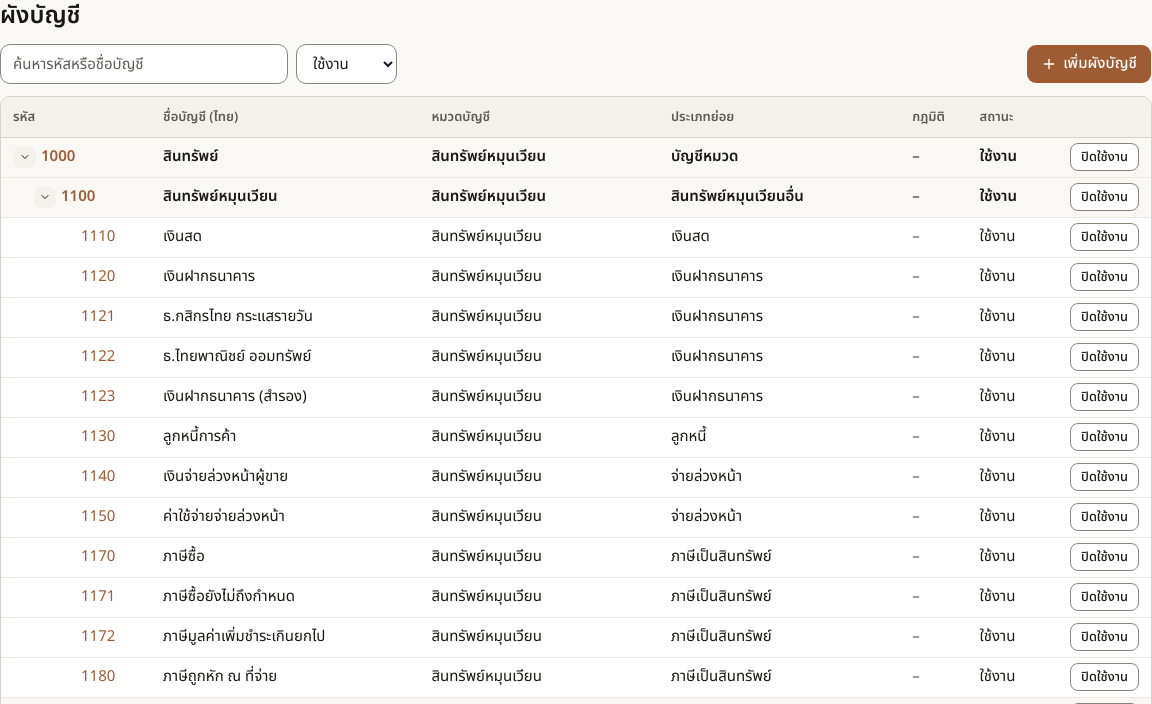
Test: TreeRecordList › a used account opens with its code, class, sub-class and posting flag locked; renaming still saves
This screenshot has width=1152, height=704.
Click the button "1130" at (98, 437), box top-left (81, 425), bottom-right (115, 449)
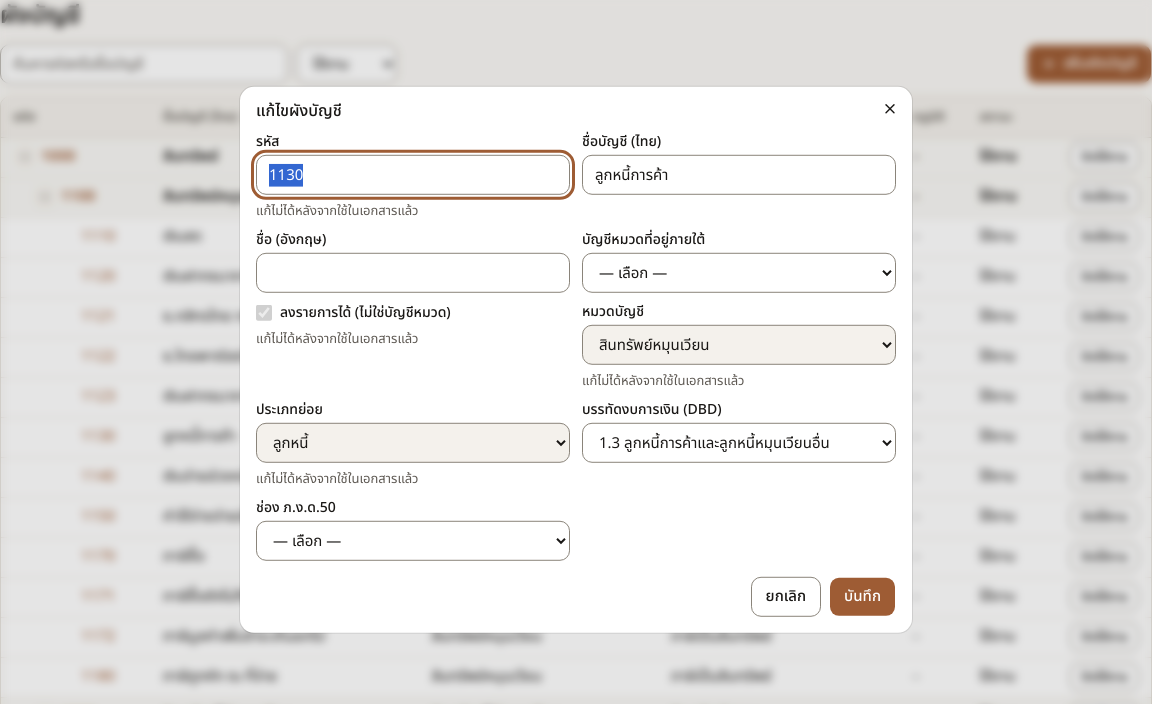
Expected: the dropdown labelled "หมวดบัญชี" is disabled, top-left (582, 325), bottom-right (896, 365)
Expected: the dropdown labelled "ประเภทย่อย" is disabled, top-left (256, 423), bottom-right (570, 463)
Expected: the checkbox labelled "ลงรายการได้ (ไม่ใช่บัญชีหมวด)" is disabled, top-left (256, 305), bottom-right (272, 321)
Replace the text in the field labelled "ชื่อบัญชี (ไทย)" with "ลูกหนี้ในประเทศ" at (739, 175), box top-left (582, 155), bottom-right (896, 195)
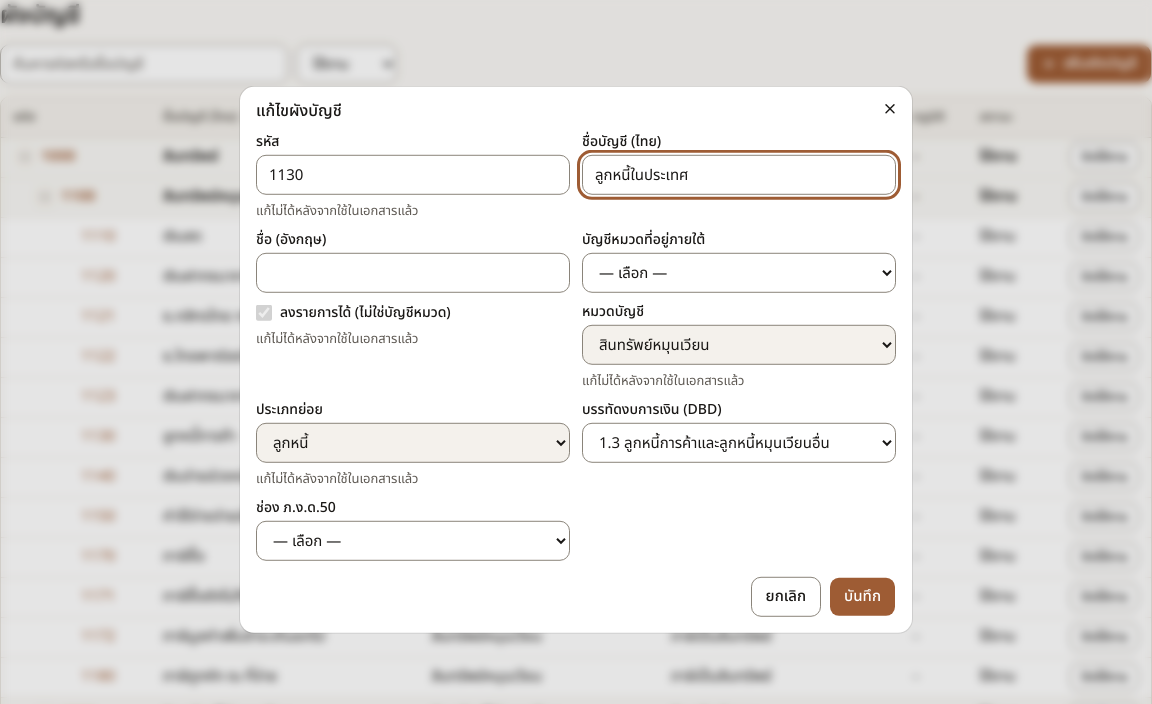
Click the button "บันทึก" at (863, 597), box top-left (829, 577), bottom-right (896, 617)
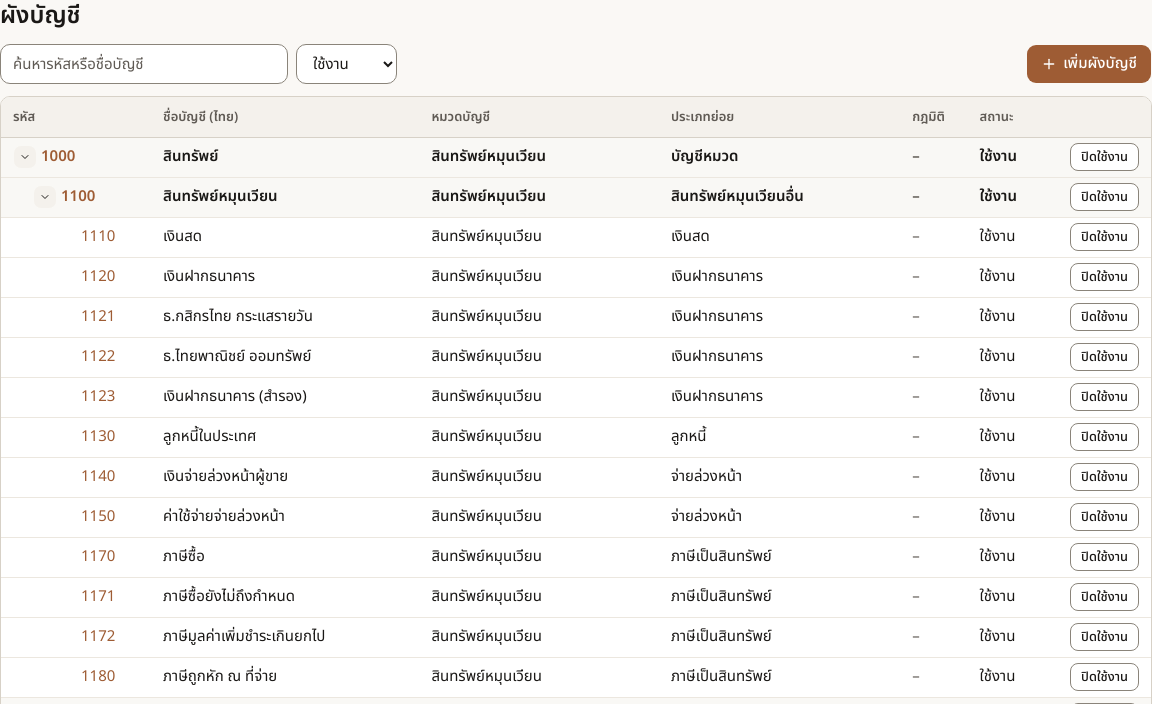
Expected: the text "ลูกหนี้ในประเทศ" is shown, top-left (151, 417), bottom-right (420, 457)
Expected: the dialog is gone
